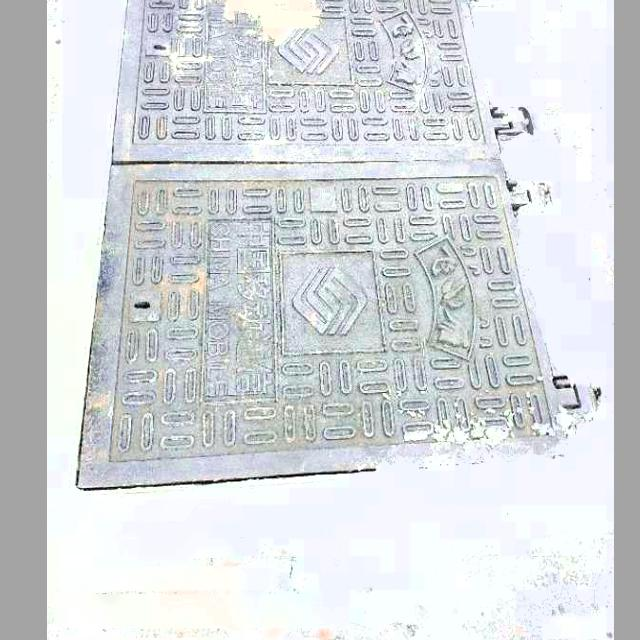good: (70, 0, 581, 492)
